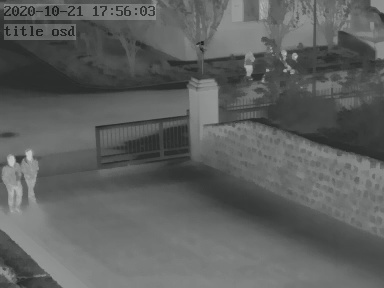person: (4, 151, 23, 209), (22, 148, 40, 205), (242, 52, 255, 82)
